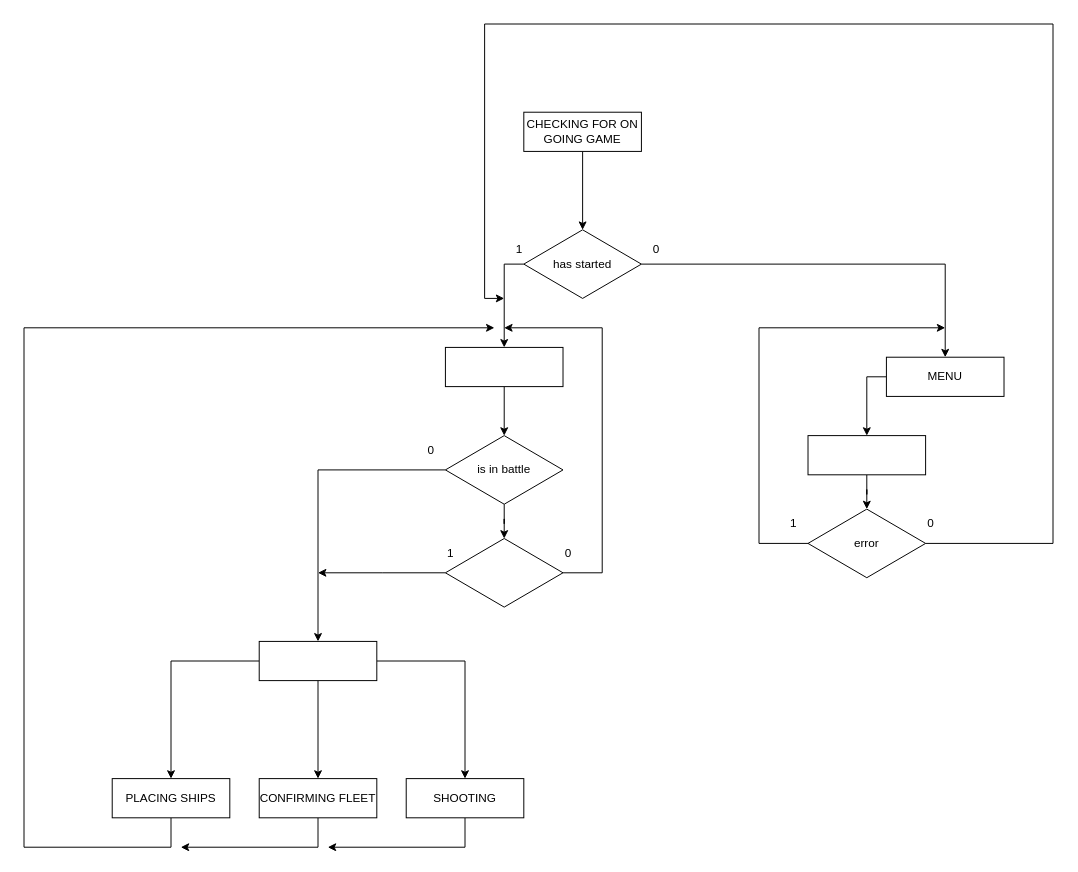
This 1078x872 diagram has some shape labels left out. Each missing label, with the box of its shape:
CREATING GAME: (807, 435, 926, 475)
is my turn: (444, 538, 563, 607)
PLAYING: (258, 640, 377, 681)
UPDATE GAME WHILE NECESSARY: (444, 346, 563, 387)
